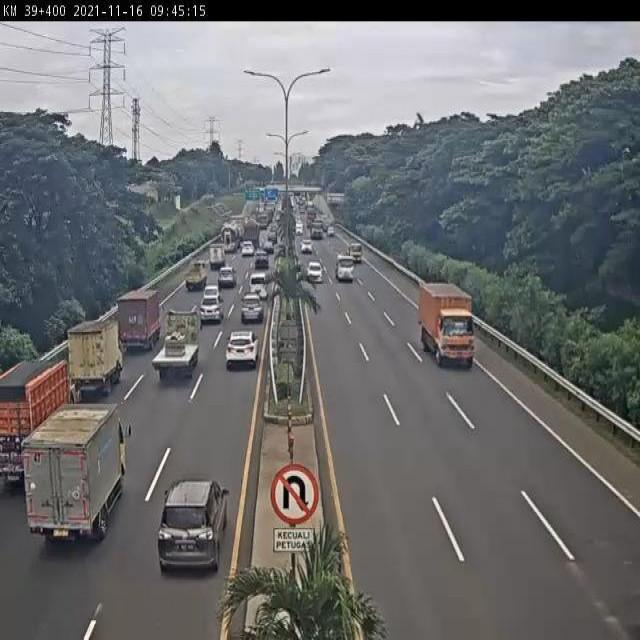car: (159, 481, 229, 572), (225, 333, 257, 372), (238, 296, 262, 327), (197, 300, 220, 327), (216, 268, 235, 291), (202, 280, 220, 297)
small bus: (248, 276, 267, 301)
small truck: (27, 407, 130, 542), (68, 320, 127, 387), (184, 261, 207, 291), (208, 242, 225, 266)
truck-m-: (418, 277, 477, 368), (153, 312, 199, 381), (118, 289, 160, 351)
